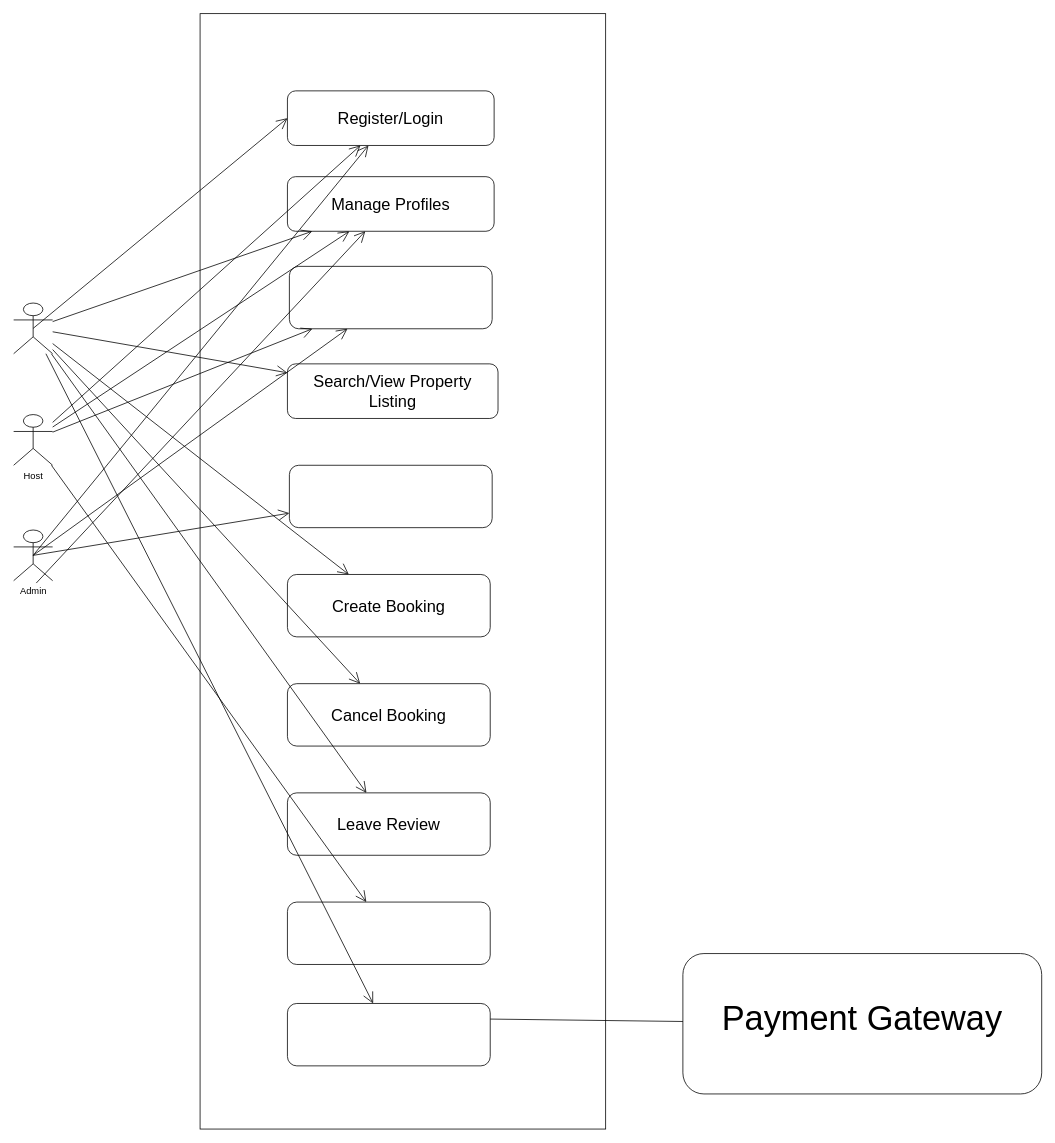
Image size: 1055x1143. Some labels were removed from this diagram. Here are the shapes that lost their labels. From the top down, the centre of each, then its label:
At (390,297): "Manage Property Listing".
At (33,328): "Guest".
At (390,496): "Manage Bookings".
At (388,932): "Respond Review".
At (388,1034): "Make Payment".
